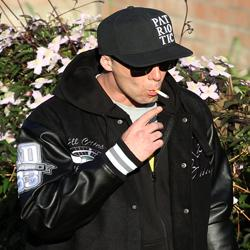smoking: (147, 87, 170, 101)
